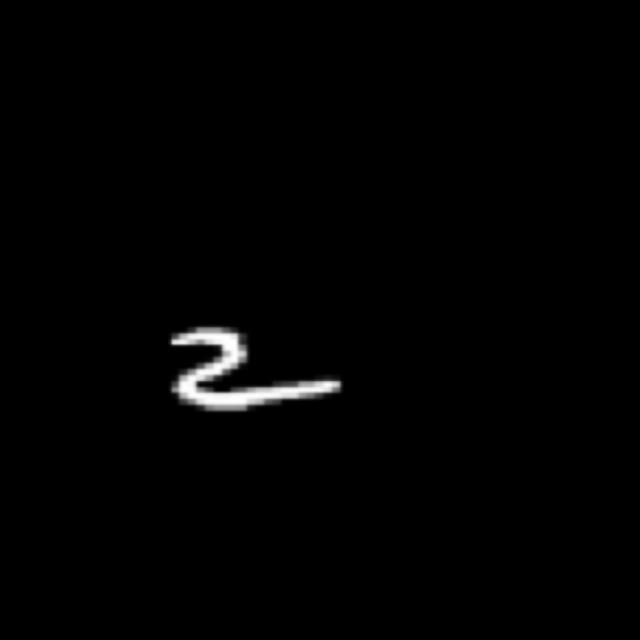two -2-: (153, 318, 362, 426)
